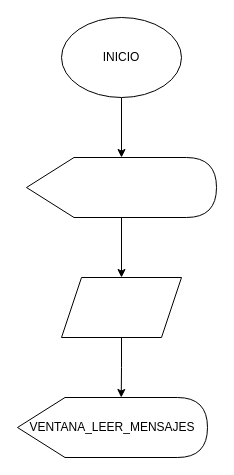
This 234x475 diagram has some shape labels left out. The box of each missing label's shape, as (x1, y1, x2, y2) in pixels:
VENTANA_PRINCIPAL_ADMIN: (26, 156, 216, 218)
VER MENSAJE: (60, 276, 182, 338)
